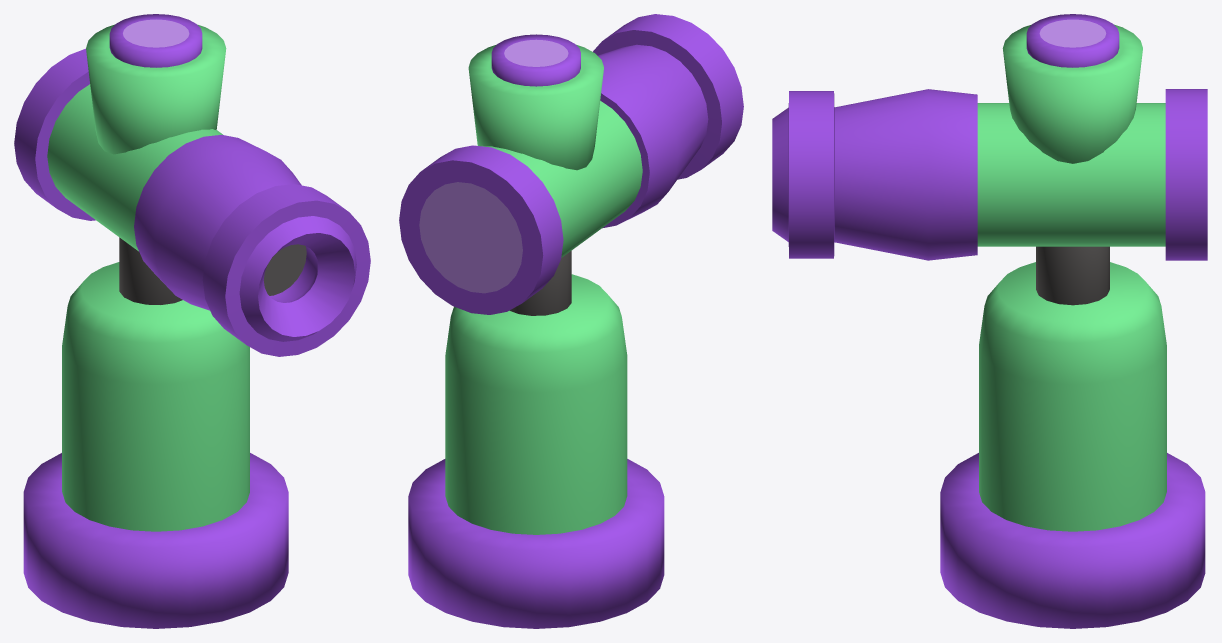
File: Obstacle 28 V4.fbx
3 views of the same model, side by side, from view 1: azimuth 30°, elevation 25°; view 2: azimuth 150°, elevation 25°; view 3: azimuth 270°, elevation 25° (orthographic). The views are drawn at different scales.
Visible parts, largest first — view 1: 028 Part 2, 028 Part 1; view 2: 028 Part 2, 028 Part 1; view 3: 028 Part 2, 028 Part 1.
Boxes of the visible parts, bbox=[...] form: 028 Part 2: bbox=[23, 14, 288, 628]; 028 Part 1: bbox=[14, 48, 370, 356]; 028 Part 2: bbox=[408, 34, 664, 628]; 028 Part 1: bbox=[399, 14, 743, 314]; 028 Part 2: bbox=[940, 14, 1205, 628]; 028 Part 1: bbox=[772, 89, 1207, 260].
Bounding box in the file's own units: 45.05 × 101 × 74.06.
1 material, 1 textured.
